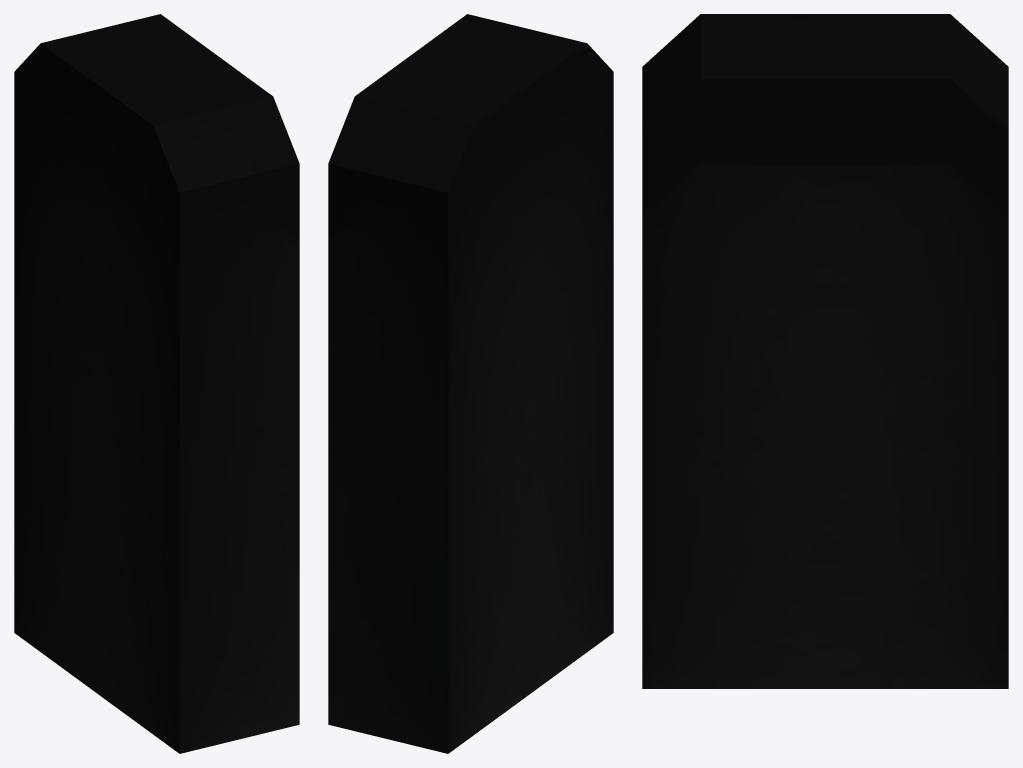
The model's file is DoorBlind.FBX.
3 renders of one model, left to right at view 1: azimuth 30°, elevation 25°; view 2: azimuth 150°, elevation 25°; view 3: azimuth 270°, elevation 25°, orthographic. The views are drawn at different scales.
Visible parts, largest first — view 1: DoorBlind; view 2: DoorBlind; view 3: DoorBlind.
Part boxes in pixels (left/top/right/bottom): DoorBlind: left=14, top=14, right=299, bottom=753; DoorBlind: left=328, top=14, right=613, bottom=753; DoorBlind: left=642, top=14, right=1008, bottom=688.
Size of the model in its own units: 20.68 by 100 by 49.4.
